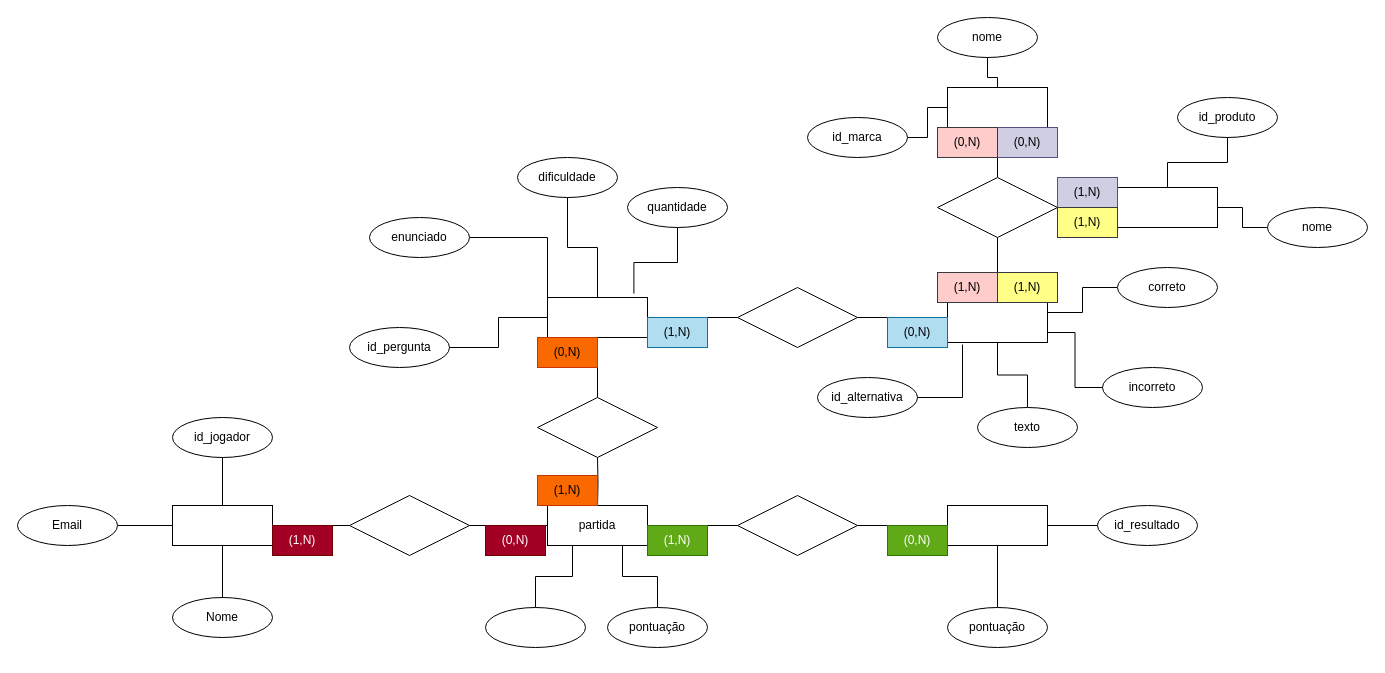
Image size: 1385x673. Some labels were removed from this diagram. The shapes that lost their labels are listed below. From the top down, each one's centre as x and y in pixels, then its label:
At point (997, 107): "Marca".
At point (1167, 207): "produto".
At point (597, 317): "pergunta".
At point (997, 322): "alternativa".
At point (222, 525): "Jogador".
At point (997, 525): "resultado".
At point (535, 627): "id_partida".
